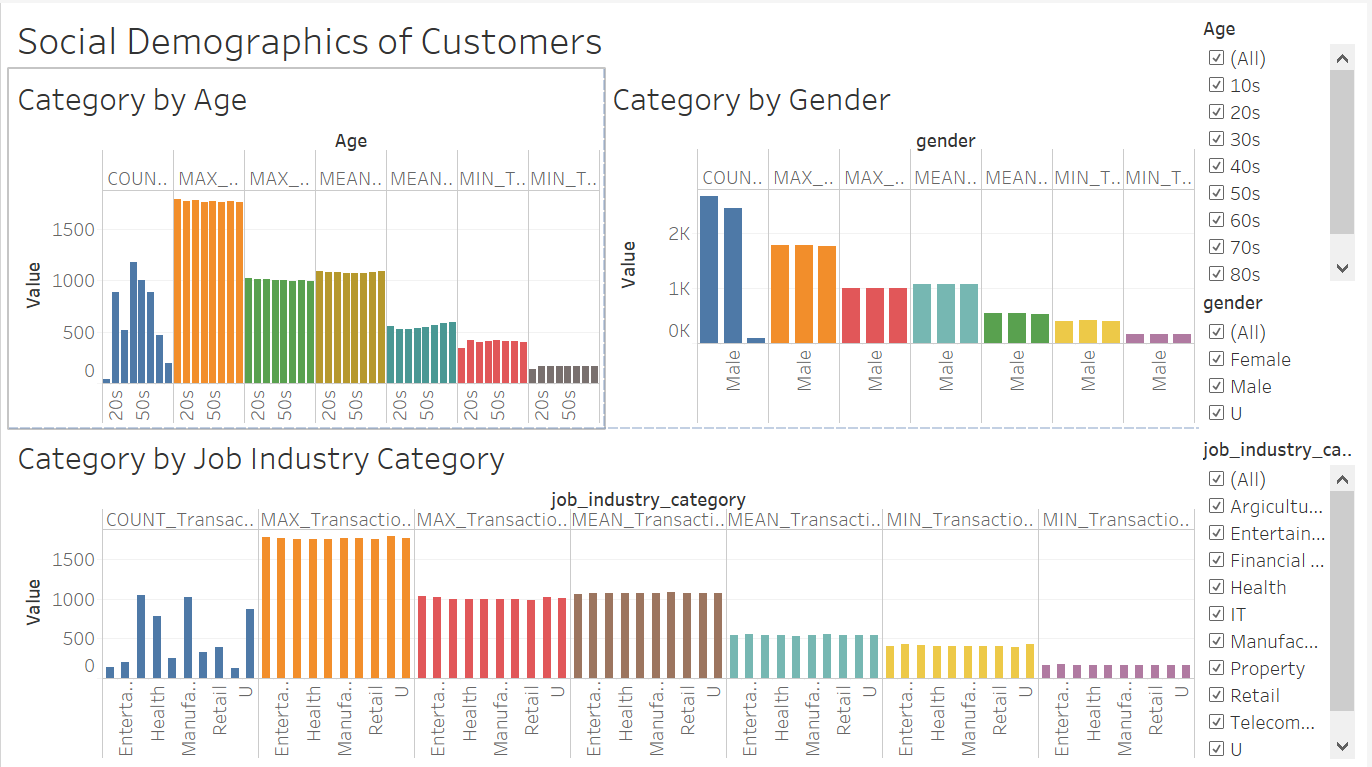

The dashboard page shown, as its layout file describes it:
{"tool":"tableau","page":{"name":"Social Dashboard","canvas":[1366,768],"ordinal":2},"visuals":[{"type":"worksheet","box":[0,0,1366,768]},{"type":"worksheet","param":"horz","box":[8,8,1350,752]},{"type":"worksheet","param":"vert","box":[8,8,1190,752]},{"type":"worksheet","box":[8,8,1190,58]},{"type":"worksheet","param":"vert","box":[1198,8,160,752]},{"type":"worksheet","title":"Age","mark":"Automatic","cols":["Age"],"param":"[federated.078vza013elq9m1bzapc51fz6hey].[none:Age:nk]","box":[1198,8,160,274]},{"type":"worksheet","param":"horz","box":[8,66,1190,694]},{"type":"worksheet","param":"horz","box":[8,66,1190,694]},{"type":"worksheet","box":[8,66,1190,694]},{"type":"worksheet","title":"Age","mark":"Automatic","cols":["Age"],"box":[8,66,595,359]},{"type":"worksheet","title":"Gender","mark":"Automatic","cols":["gender"],"box":[603,66,595,359]},{"type":"worksheet","title":"Gender","mark":"Automatic","cols":["gender"],"param":"[federated.0xvhgtj0qs2slr158dlcm1wh2e3a].[none:gender:nk]","box":[1198,282,160,147]},{"type":"worksheet","title":"Job Industry Category","mark":"Bar","cols":["job_industry_category"],"box":[8,425,1190,335]},{"type":"worksheet","title":"Job Industry Category","mark":"Bar","cols":["job_industry_category"],"param":"[federated.0brl5w90au9vd219vd49t140dpge].[none:job_industry_category:nk]","box":[1198,429,160,331]}]}

Visuals, with their boxes in screenshot pixels (x1, y1, x2, y2), scaled from the page's 1366x768 canvas onto the 1372x767 screenshot:
worksheet: [x1=0, y1=0, x2=1371, y2=766]
worksheet: [x1=8, y1=8, x2=1364, y2=759]
worksheet: [x1=8, y1=8, x2=1203, y2=759]
worksheet: [x1=8, y1=8, x2=1203, y2=66]
worksheet: [x1=1203, y1=8, x2=1364, y2=759]
"Age" worksheet: [x1=1203, y1=8, x2=1364, y2=282]
worksheet: [x1=8, y1=66, x2=1203, y2=759]
worksheet: [x1=8, y1=66, x2=1203, y2=759]
worksheet: [x1=8, y1=66, x2=1203, y2=759]
"Age" worksheet: [x1=8, y1=66, x2=606, y2=424]
"Gender" worksheet: [x1=606, y1=66, x2=1203, y2=424]
"Gender" worksheet: [x1=1203, y1=282, x2=1364, y2=428]
"Job Industry Category" worksheet (Bar marks): [x1=8, y1=424, x2=1203, y2=759]
"Job Industry Category" worksheet (Bar marks): [x1=1203, y1=428, x2=1364, y2=759]
